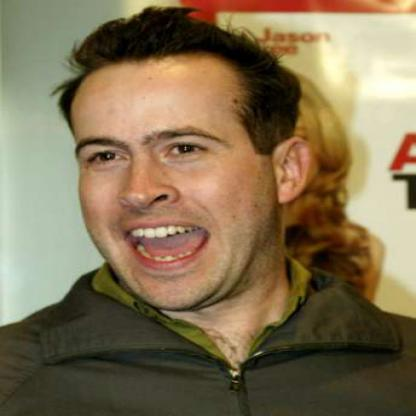face: (69, 31, 280, 314)
